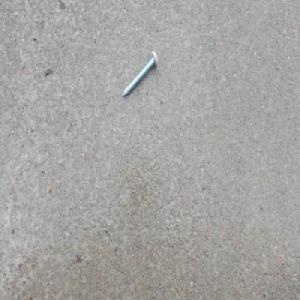Nail: (121, 49, 158, 100)
